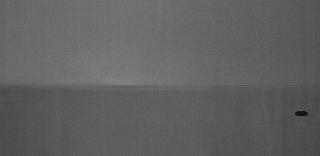punching hole: (291, 108, 311, 119)
welding line: (3, 79, 320, 93)
